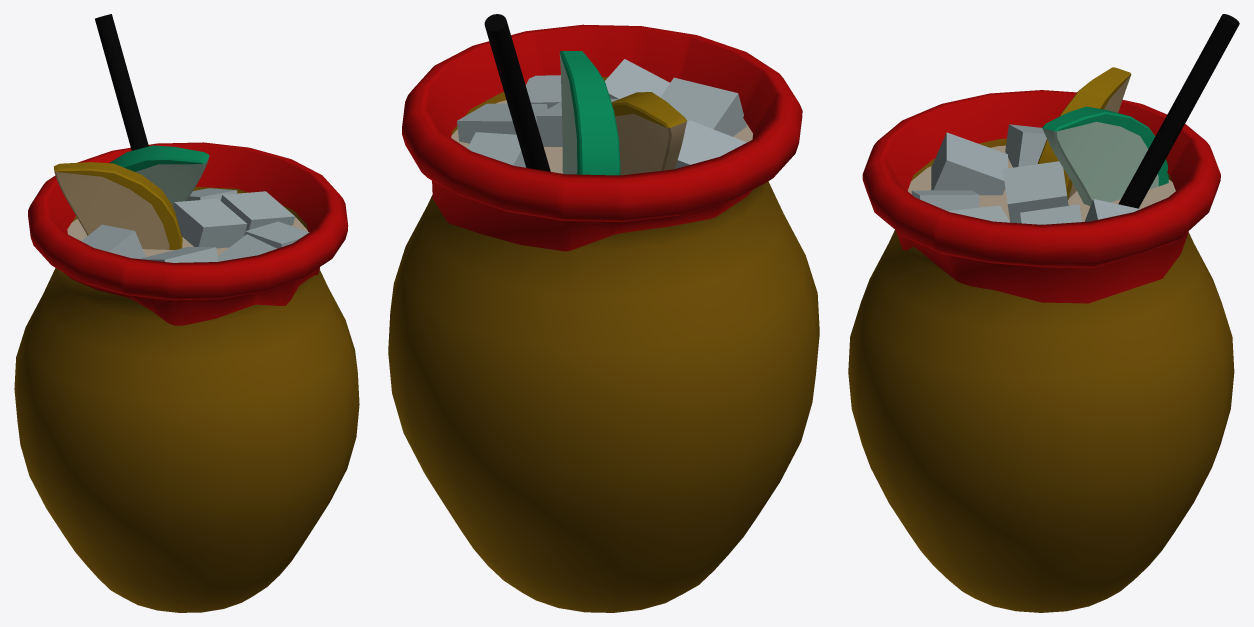
Rendered from Cantaro.fbx.
3 renders of one model, left to right at view 1: azimuth 30°, elevation 25°; view 2: azimuth 150°, elevation 25°; view 3: azimuth 270°, elevation 25°, orthographic. The views are drawn at different scales.
Visible parts, largest first — view 1: Cantarito1; view 2: Cantarito1; view 3: Cantarito1.
Part boxes in pixels (x1=…): Cantarito1: x1=14, y1=14, x2=359, y2=612; Cantarito1: x1=388, y1=14, x2=819, y2=612; Cantarito1: x1=848, y1=14, x2=1239, y2=612.
Bounding box in the file's own units: 61.68 × 100 × 62.54.
